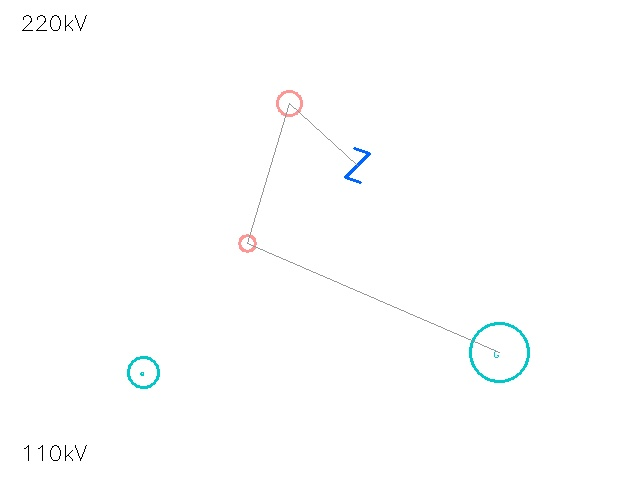circuit_breaker: (340, 148, 374, 182)
generator: (470, 323, 528, 381), (128, 357, 158, 387)
reactor: (264, 78, 314, 128)
surge_arrester: (230, 226, 264, 260)
